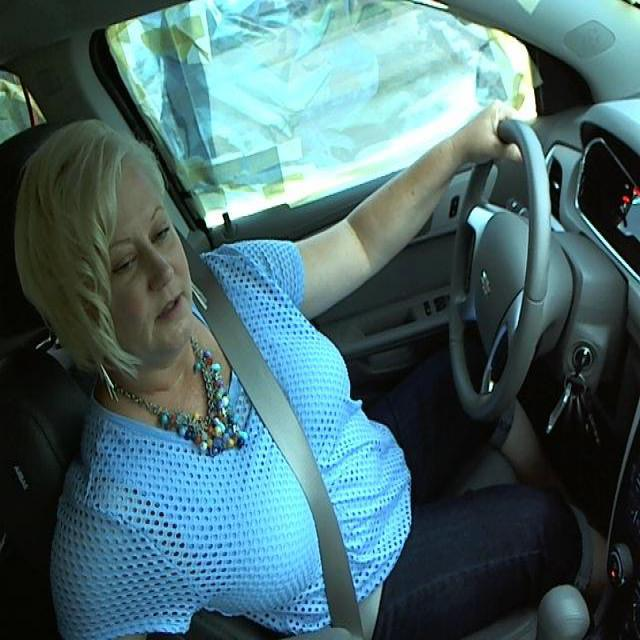seatbelt: (192, 272, 358, 544)
